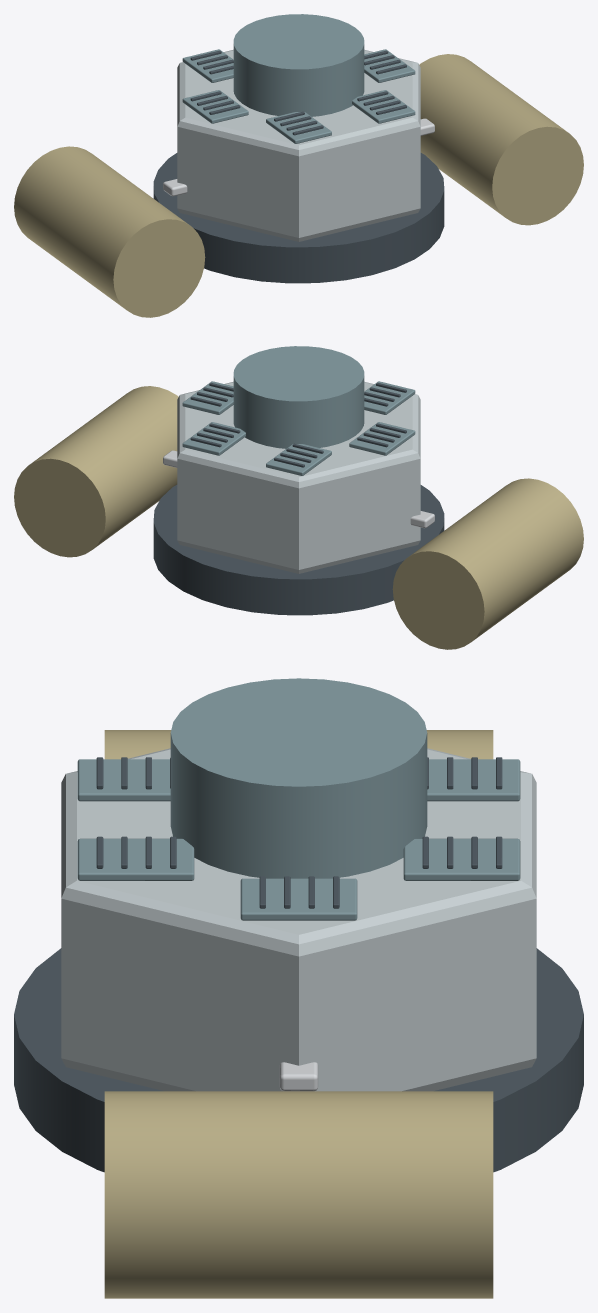
The picture shows the model from 3 angles, top to bottom: view 1: azimuth 30°, elevation 25°; view 2: azimuth 150°, elevation 25°; view 3: azimuth 270°, elevation 25°; orthographic projection. The views are drawn at different scales.
Visible parts, largest first — view 1: fuel-depot; view 2: fuel-depot; view 3: fuel-depot.
Boxes of the visible parts, x1,y1,x2,y2 form: fuel-depot: (14, 14, 583, 317); fuel-depot: (14, 346, 583, 649); fuel-depot: (14, 678, 583, 1298).
Size of the model in its own units: 8.2 by 3.2 by 4.4.
